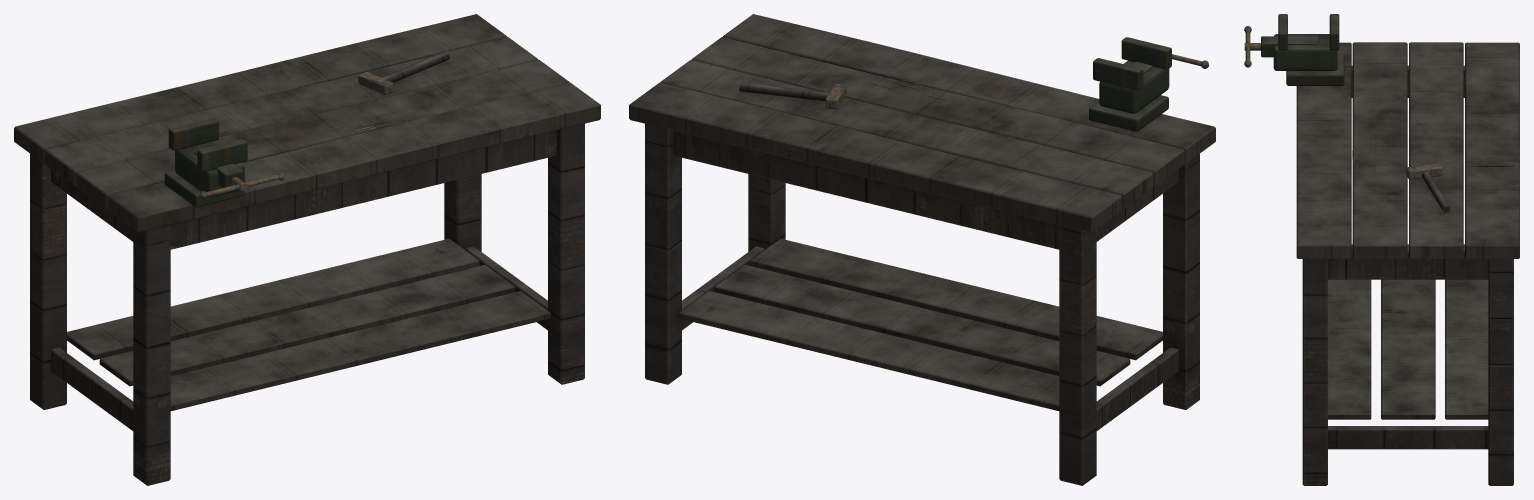
File: Workbench.fbx
The picture shows the model from 3 angles, left to right: view 1: azimuth 30°, elevation 25°; view 2: azimuth 150°, elevation 25°; view 3: azimuth 270°, elevation 25°; orthographic projection. The views are drawn at different scales.
Parts seen in each view (by area): view 1: Workbench_Mesh; view 2: Workbench_Mesh; view 3: Workbench_Mesh.
Boxes of the visible parts, x1,y1,x2,y2 form: Workbench_Mesh: (14,14,600,485); Workbench_Mesh: (629,14,1215,485); Workbench_Mesh: (1244,14,1519,485).
Size of the model in its own units: 1.5 by 1.03 by 0.86.
